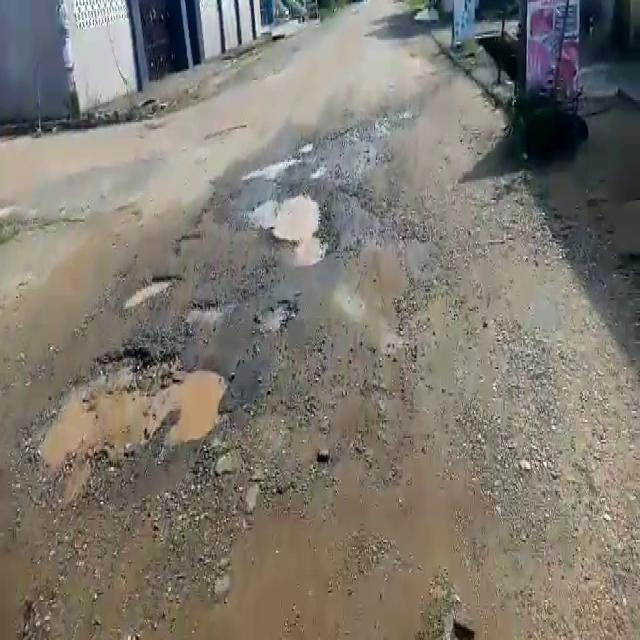Pothole: (24, 342, 236, 472), (242, 188, 332, 257), (120, 272, 182, 309), (248, 154, 304, 181), (182, 298, 223, 330)
